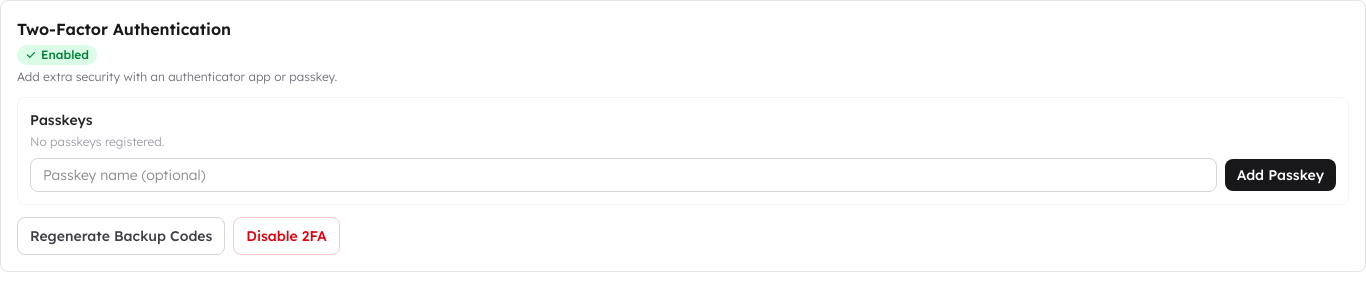
Test: TwoFactorSection › disables 2FA with password
Click disable button
Click the button with test id "disable-2fa-button" at [287, 236], box [233, 217, 340, 255]
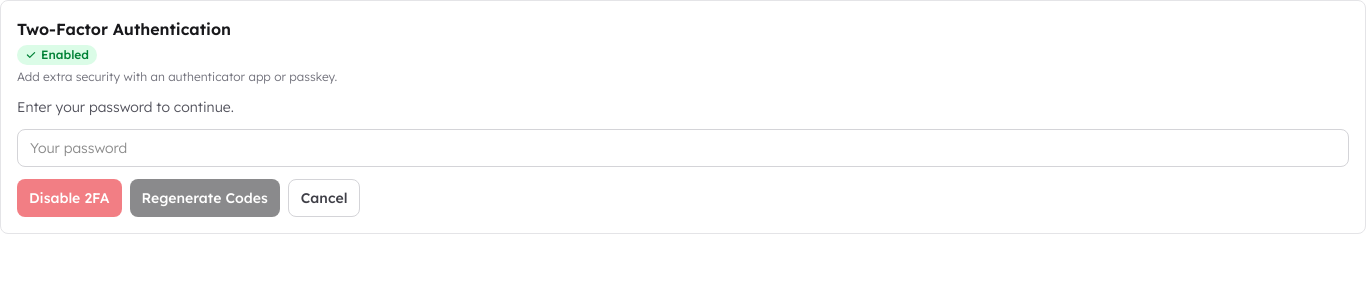
Expected: the password field with test id "2fa-password-input" is shown
Enter password and confirm
Type "mypassword" into the password field with test id "2fa-password-input" at [683, 148], box [17, 129, 1349, 167]
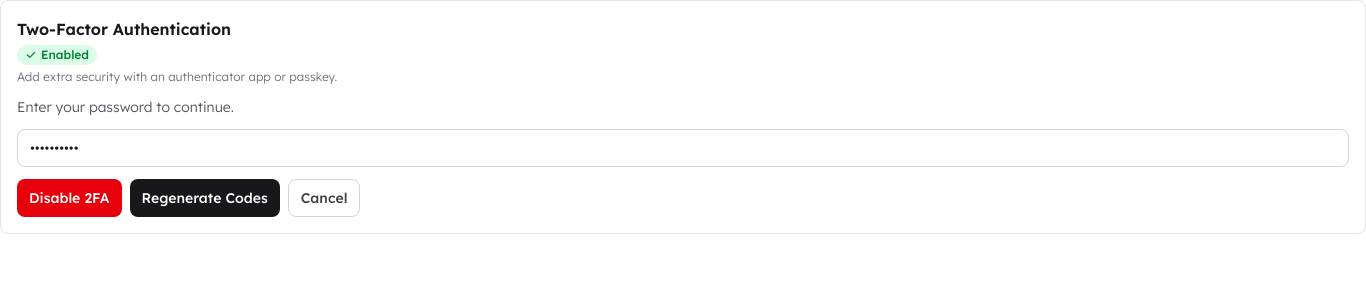
Click the button with test id "confirm-disable-2fa" at [69, 198], box [17, 179, 122, 217]
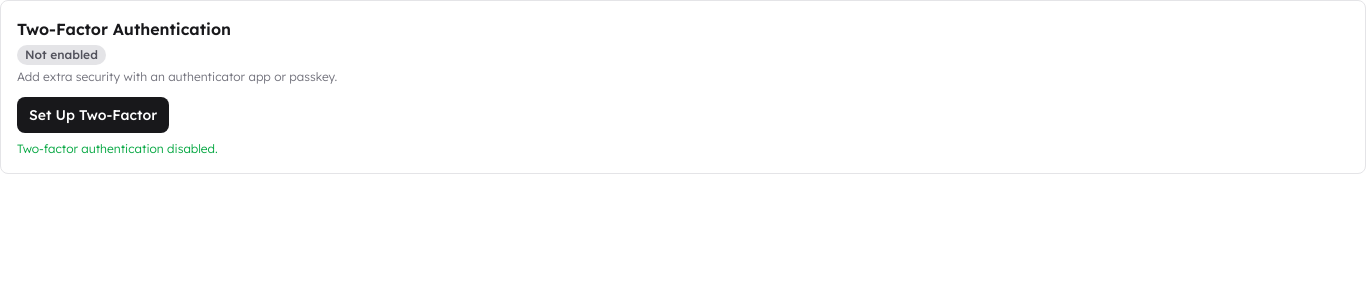
Expected: the text "Not enabled" is shown, [17, 45, 106, 65]
